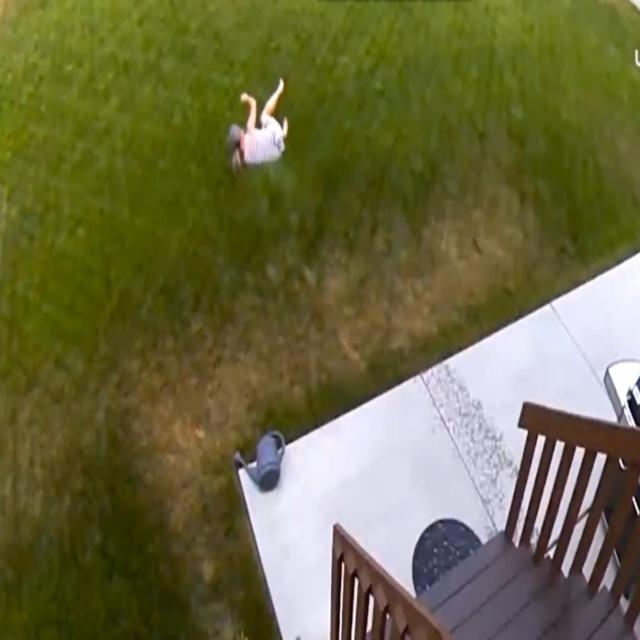fallen: (227, 79, 288, 171)
